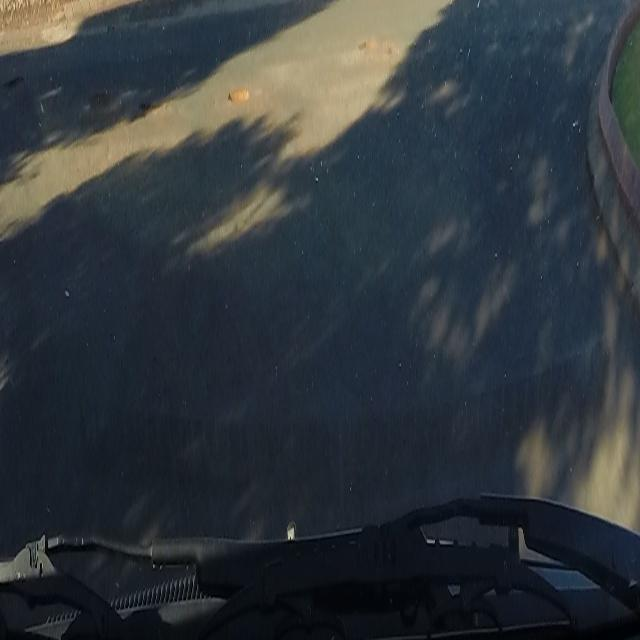pothole: (227, 82, 250, 104), (357, 36, 373, 52)
